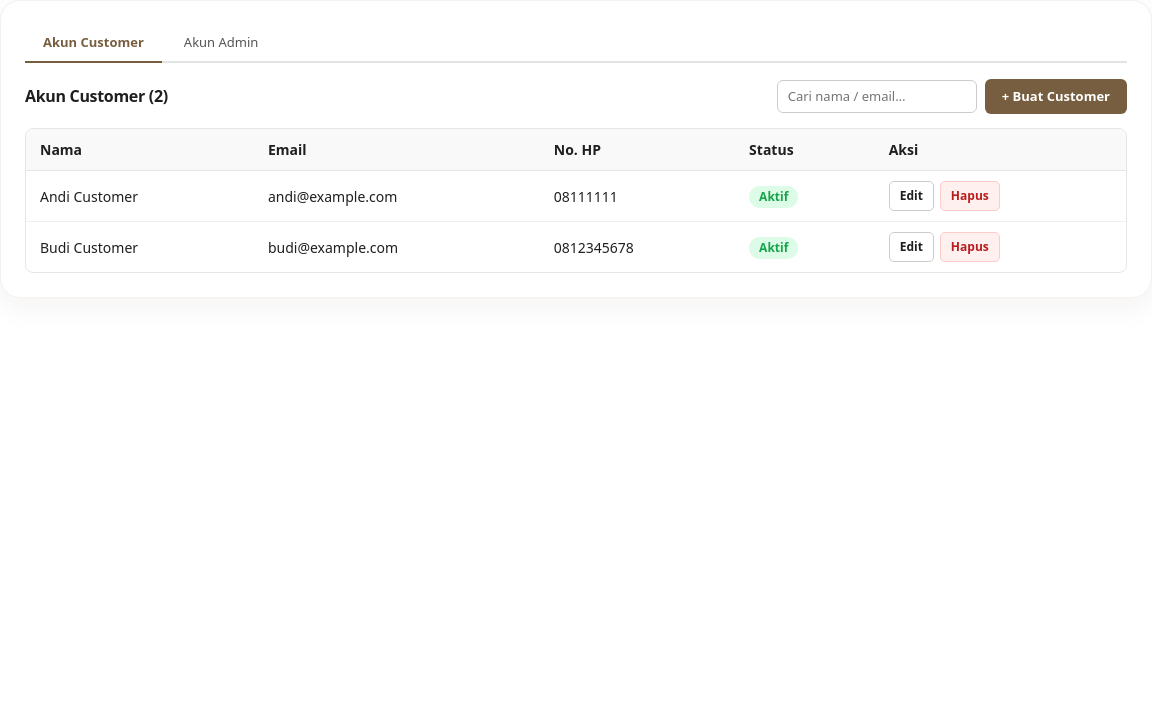
AccountsSection — add admin (staff) account › opens the staff form and validates required fields
This screenshot has width=1152, height=720.
Click the tab "Akun Admin": x=221, y=44 [166,25,276,62]
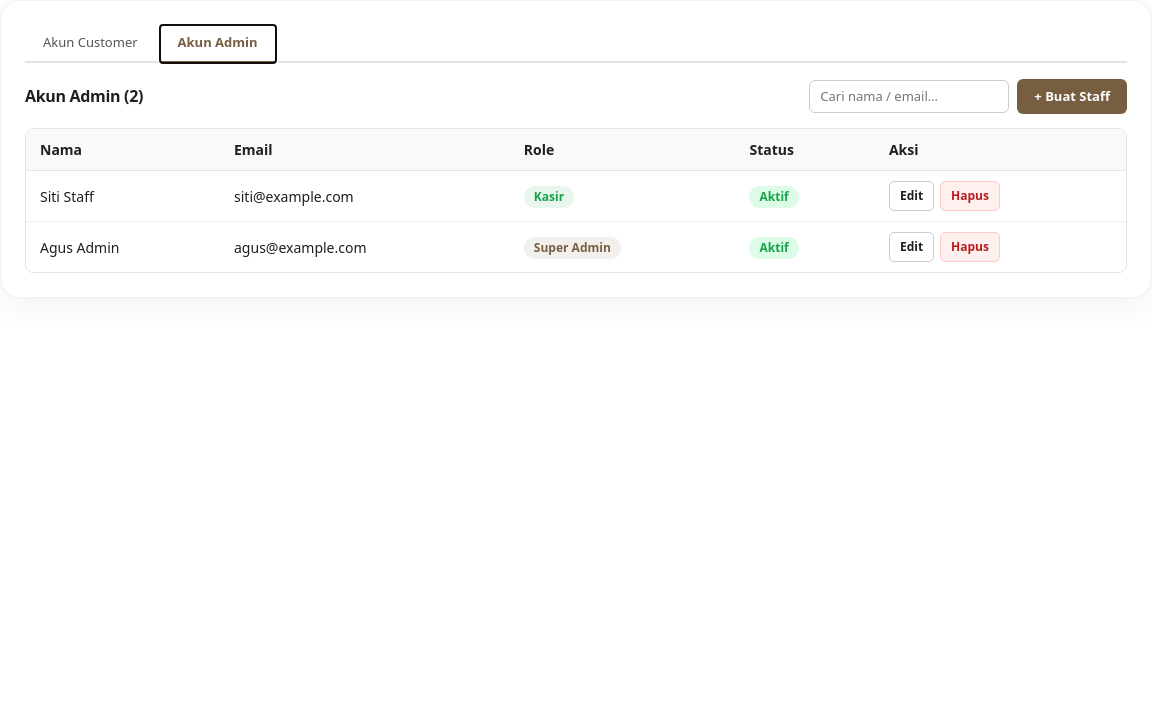
expect the text "Siti Staff" is shown: met, box [26,170,220,222]
Click the button with aria-label "Buat akun staff baru": x=1072, y=96 [1017,78,1127,114]
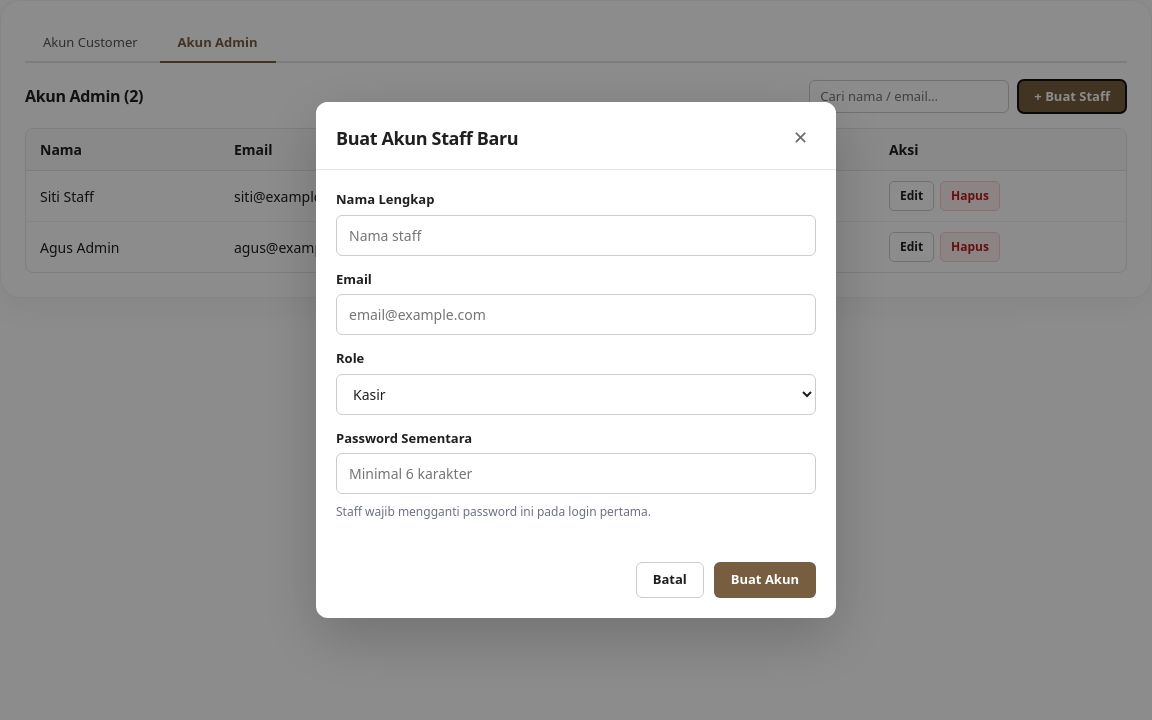
expect the field labelled "Nama Lengkap" is shown: met, box [336,215,816,256]
expect the field labelled "Email" is shown: met, box [336,294,816,336]
expect the dropdown labelled "Role" is shown: met, box [336,374,816,415]
Click the button "Buat Akun": x=765, y=580 [714,562,816,598]
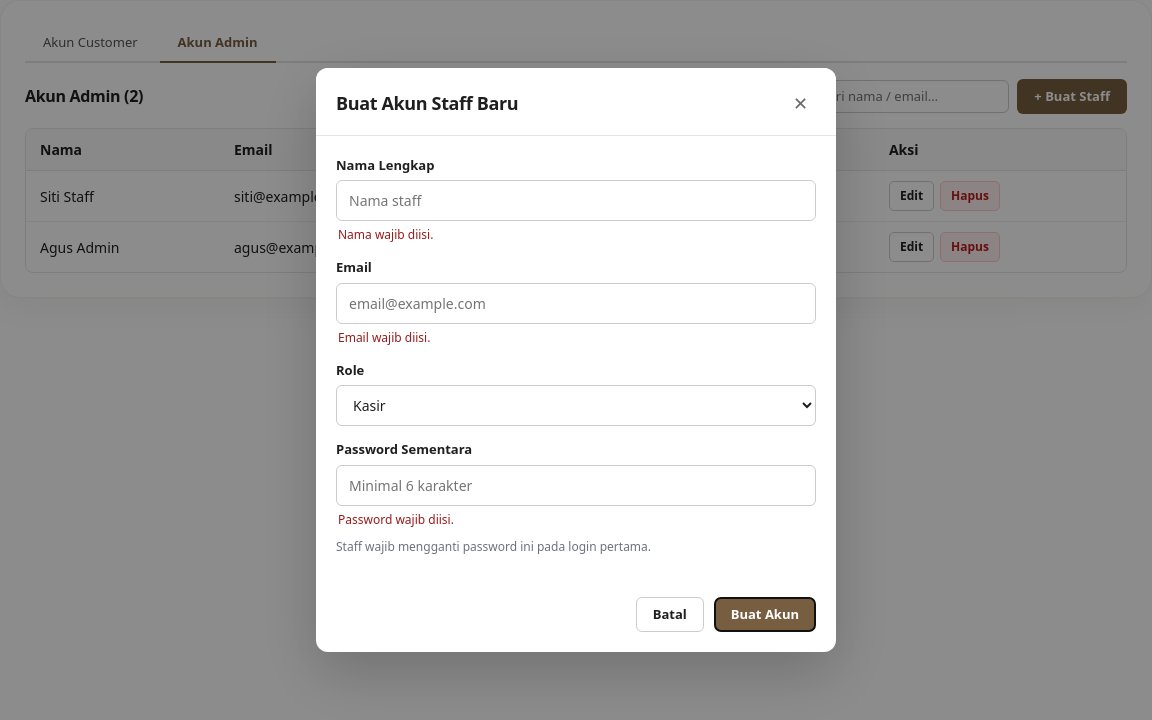
expect the text "Nama wajib diisi." is shown: met, box [338,226,433,244]
expect the text "Email wajib diisi." is shown: met, box [338,329,430,346]
expect the text "Password wajib diisi." is shown: met, box [338,511,454,528]
